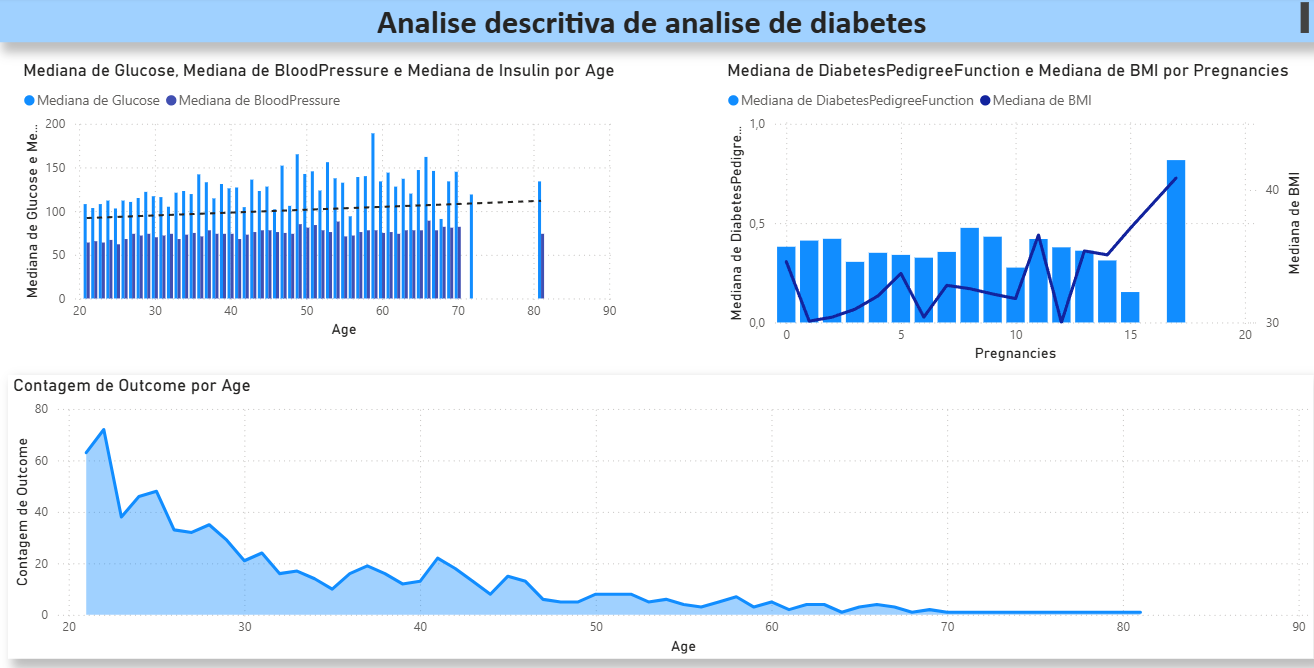

The dashboard page shown, as its layout file describes it:
{"tool":"powerbi","page":{"name":"Página 1","canvas":[1280,720],"ordinal":0},"visuals":[{"type":"clusteredColumnChart","fields":{"Category":["diabetes.Age"],"Y":["Median(diabetes.Glucose)","Median(diabetes.BloodPressure)"]},"box":[19,61.2,361.4,275.1],"z":0},{"type":"lineStackedColumnComboChart","fields":{"Y":["Median(diabetes.DiabetesPedigreeFunction)"],"Category":["diabetes.Pregnancies"],"Y2":["Median(diabetes.BMI)"]},"box":[390.7,61.2,357.1,298.4],"z":1000},{"type":"areaChart","fields":{"Category":["diabetes.Age"],"Y":["CountNonNull(diabetes.Outcome)"]},"box":[9.5,348.5,1231.7,276],"z":1001},{"type":"textbox","box":[0,0,1280,43.8],"z":1002}]}

Visuals, with their boxes on the page's 1280x720 design canvas (x1, y1, x2, y2). These are canvas units, not pixel positions in the 1314x668 screenshot, which may show the page scaled, cropped or inside an application window:
clusteredColumnChart - diabetes.Age x Median(diabetes.Glucose): {"x1": 19, "y1": 61, "x2": 380, "y2": 336}
lineStackedColumnComboChart - Median(diabetes.DiabetesPedigreeFunction) x diabetes.Pregnancies: {"x1": 391, "y1": 61, "x2": 748, "y2": 360}
areaChart - diabetes.Age x CountNonNull(diabetes.Outcome): {"x1": 10, "y1": 348, "x2": 1241, "y2": 624}
textbox: {"x1": 0, "y1": 0, "x2": 1280, "y2": 44}
